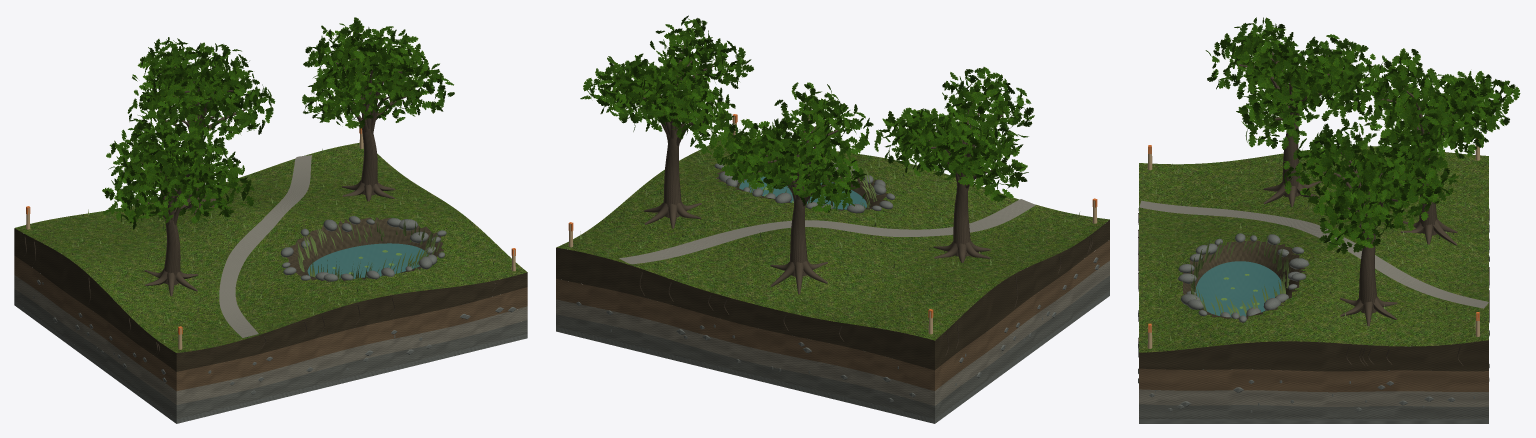
Rendered from land.glb.
The picture shows the model from 3 angles, left to right: view 1: azimuth 30°, elevation 25°; view 2: azimuth 150°, elevation 25°; view 3: azimuth 270°, elevation 25°; orthographic projection. The views are drawn at different scales.
Parts seen in each view (by area): view 1: Land-Terrain-Meadow, Land-Cutaway-Topsoil, Land-Tree-0-Leaves, Land-Tree-2-Leaves, Land-Cutaway-Subsoil, Land-Tree-1-Leaves, Land-Cutaway-Gravel, Land-Cutaway-Bedrock, Land-Pond-Basin, Land-Gravel-Path, Land-Foundation, Land-Pond-Water (+8 smaller); view 2: Land-Terrain-Meadow, Land-Cutaway-Topsoil, Land-Tree-1-Leaves, Land-Cutaway-Subsoil, Land-Tree-0-Leaves, Land-Tree-2-Leaves, Land-Cutaway-Gravel, Land-Cutaway-Bedrock, Land-Gravel-Path, Land-Foundation, Land-Shore-Stones, Land-Tree-1-Branches (+9 smaller); view 3: Land-Terrain-Meadow, Land-Tree-2-Leaves, Land-Tree-0-Leaves, Land-Tree-1-Leaves, Land-Cutaway-Topsoil, Land-Cutaway-Subsoil, Land-Pond-Basin, Land-Cutaway-Gravel, Land-Cutaway-Bedrock, Land-Pond-Water, Land-Gravel-Path, Land-Shore-Stones (+10 smaller).
Part boxes in pixels (x1=…): Land-Terrain-Meadow: x1=15, y1=142, x2=527, y2=352; Land-Cutaway-Topsoil: x1=14, y1=228, x2=527, y2=371; Land-Tree-0-Leaves: x1=102, y1=118, x2=254, y2=229; Land-Tree-2-Leaves: x1=302, y1=17, x2=454, y2=128; Land-Cutaway-Subsoil: x1=14, y1=256, x2=527, y2=391; Land-Tree-1-Leaves: x1=127, y1=37, x2=275, y2=143; Land-Cutaway-Gravel: x1=14, y1=275, x2=527, y2=404; Land-Cutaway-Bedrock: x1=14, y1=289, x2=527, y2=419; Land-Pond-Basin: x1=287, y1=217, x2=443, y2=281; Land-Gravel-Path: x1=219, y1=155, x2=311, y2=337; Land-Foundation: x1=14, y1=301, x2=527, y2=423; Land-Pond-Water: x1=307, y1=243, x2=427, y2=278; Land-Terrain-Meadow: x1=556, y1=134, x2=1109, y2=340; Land-Cutaway-Topsoil: x1=556, y1=220, x2=1109, y2=370; Land-Tree-1-Leaves: x1=705, y1=82, x2=873, y2=212; Land-Cutaway-Subsoil: x1=556, y1=240, x2=1109, y2=390; Land-Tree-0-Leaves: x1=874, y1=67, x2=1034, y2=201; Land-Tree-2-Leaves: x1=580, y1=15, x2=753, y2=154; Land-Cutaway-Gravel: x1=556, y1=261, x2=1109, y2=405; Land-Cutaway-Bedrock: x1=556, y1=275, x2=1109, y2=418; Land-Gravel-Path: x1=619, y1=199, x2=1035, y2=264; Land-Foundation: x1=556, y1=291, x2=1109, y2=423; Land-Shore-Stones: x1=714, y1=163, x2=895, y2=213; Land-Tree-1-Branches: x1=746, y1=109, x2=838, y2=294; Land-Terrain-Meadow: x1=1139, y1=146, x2=1488, y2=352; Land-Tree-2-Leaves: x1=1283, y1=118, x2=1459, y2=254; Land-Tree-0-Leaves: x1=1205, y1=17, x2=1385, y2=149; Land-Tree-1-Leaves: x1=1344, y1=48, x2=1520, y2=173; Land-Cutaway-Topsoil: x1=1139, y1=340, x2=1488, y2=371; Land-Cutaway-Subsoil: x1=1139, y1=368, x2=1488, y2=392; Land-Pond-Basin: x1=1183, y1=240, x2=1306, y2=319; Land-Cutaway-Gravel: x1=1139, y1=389, x2=1488, y2=406; Land-Cutaway-Bedrock: x1=1139, y1=404, x2=1488, y2=418; Land-Pond-Water: x1=1195, y1=261, x2=1282, y2=317; Land-Gravel-Path: x1=1139, y1=200, x2=1488, y2=308; Land-Shore-Stones: x1=1178, y1=233, x2=1309, y2=322.
Bounding box in the file's own units: 3.2 × 2.01 × 2.64.
12 materials, 7 textured.
